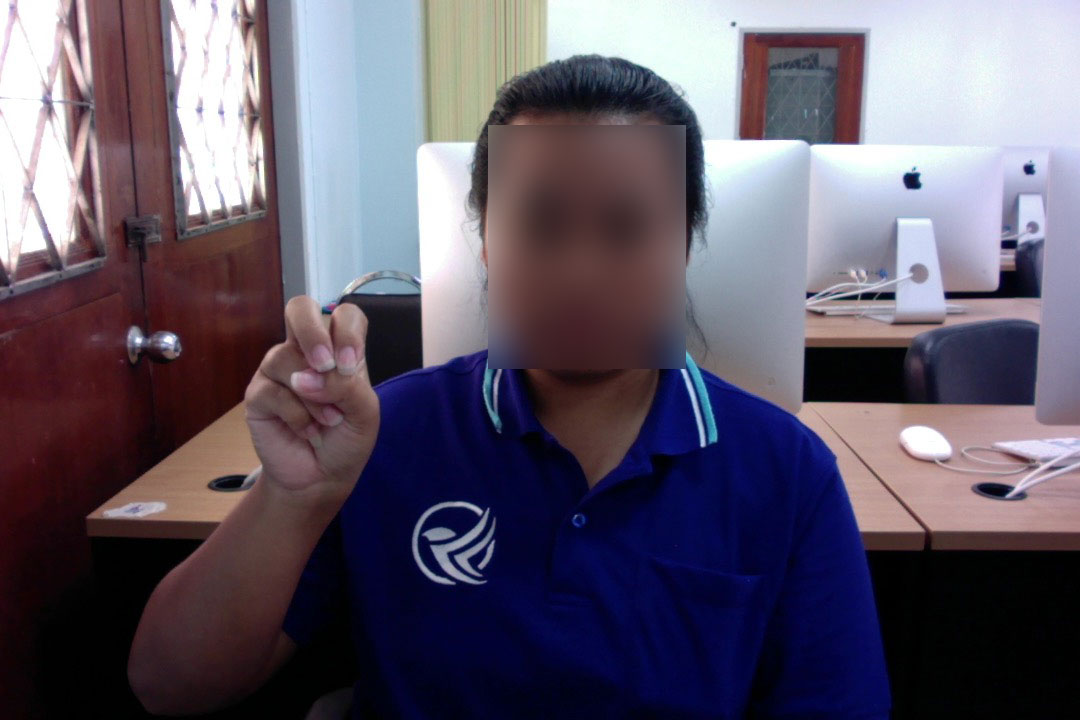nor: (237, 291, 394, 530)
